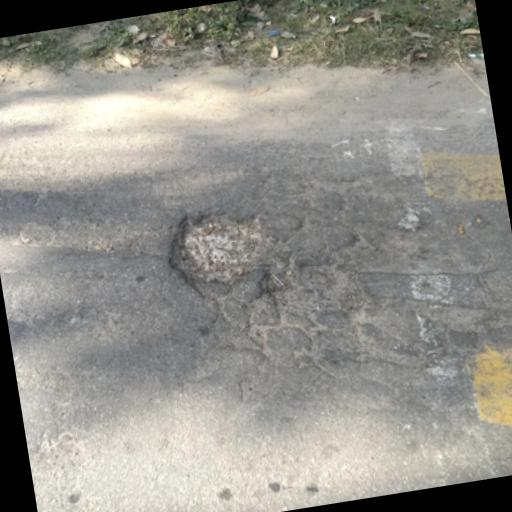pothole: (155, 196, 284, 294), (255, 250, 375, 328)
